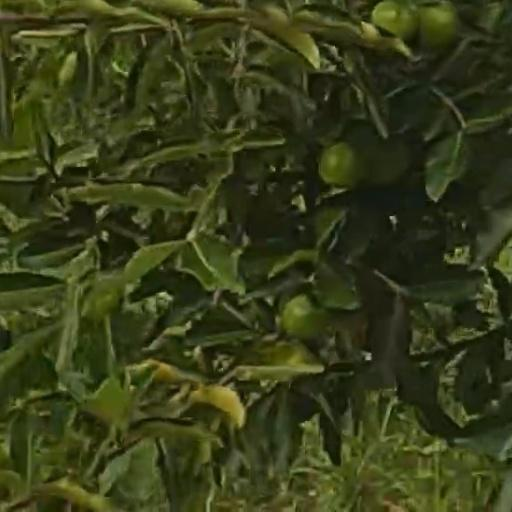acerola_verde: (321, 142, 358, 189), (374, 2, 416, 37), (286, 297, 321, 336)
